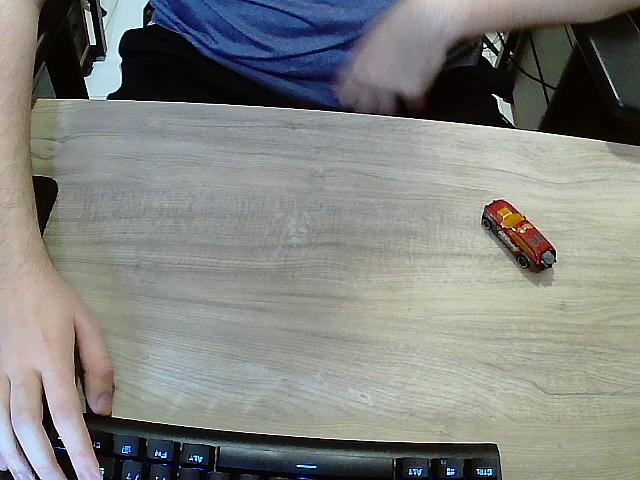Carro: (482, 199, 557, 279)
